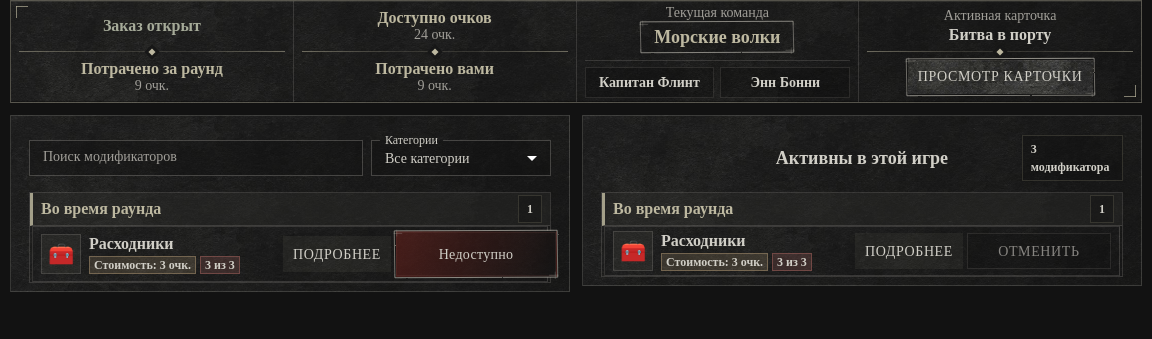
GameModifiersPage › shows the compact insufficient_points status with its detailed tooltip
The image size is (1152, 339).
Expected: the message named "Не хватает очков викторины." reads "Недоступно", x1=439 y1=246 x2=513 y2=262
Expected: the text "Не хватает очков" is not shown
Hover over the message named "Не хватает очков викторины.": coordinates (476, 254) x1=395 y1=231 x2=557 y2=277
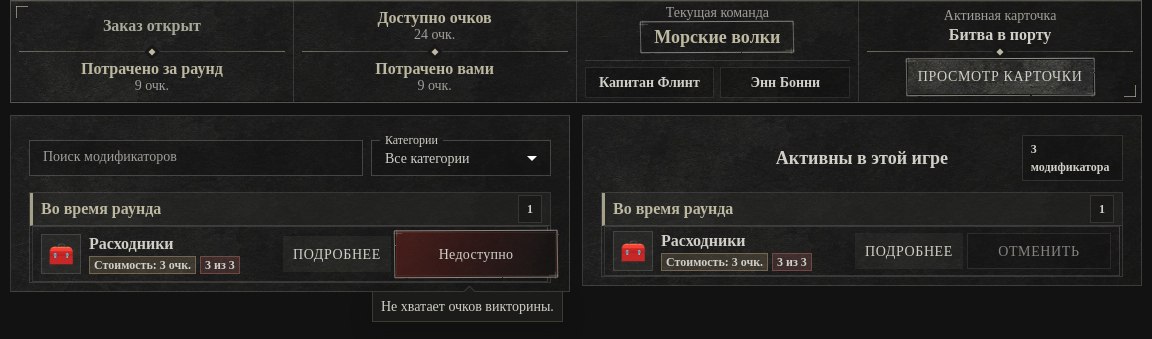
Result: the tooltip reads "Не хватает очков викторины." at x1=381 y1=299 x2=554 y2=314
